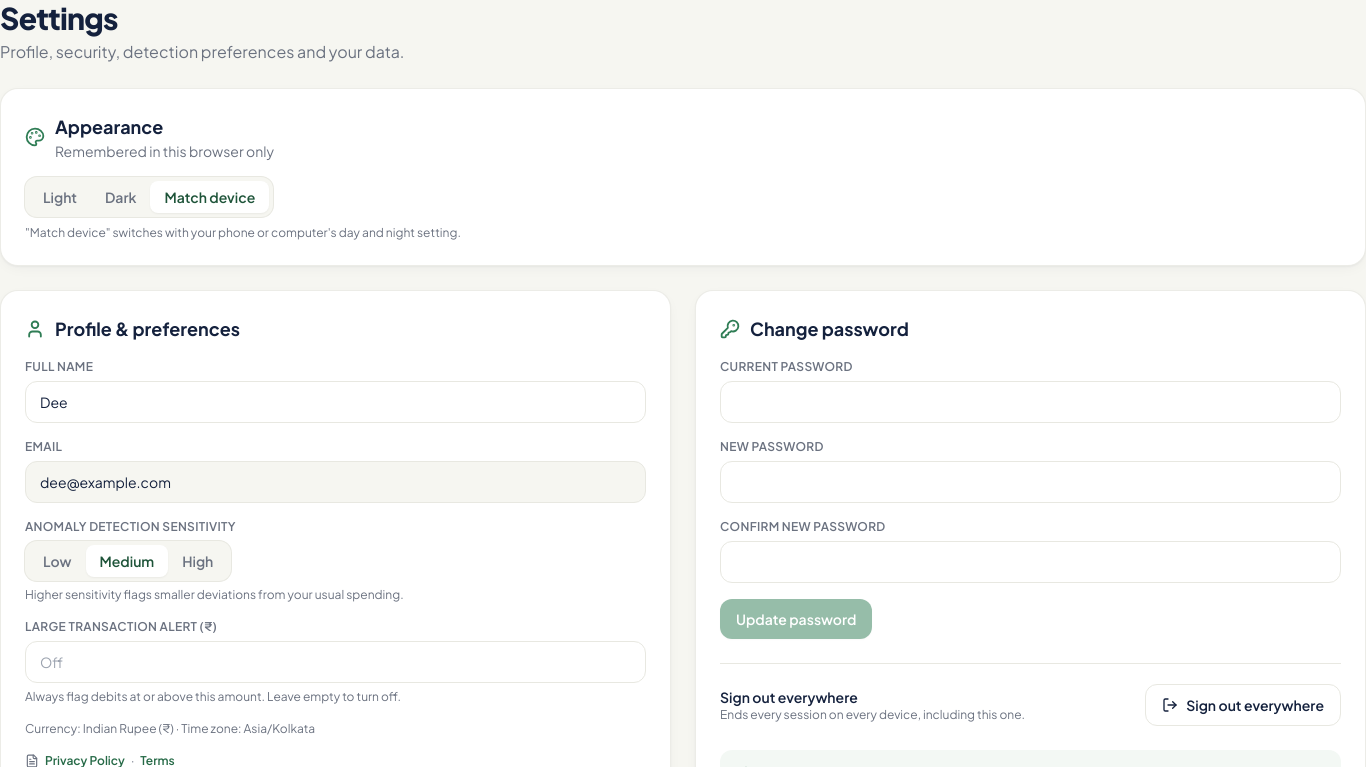
Test: Settings - appearance › switches to dark and remembers it
Click the tab "Dark": (121, 197) [91, 181, 150, 213]
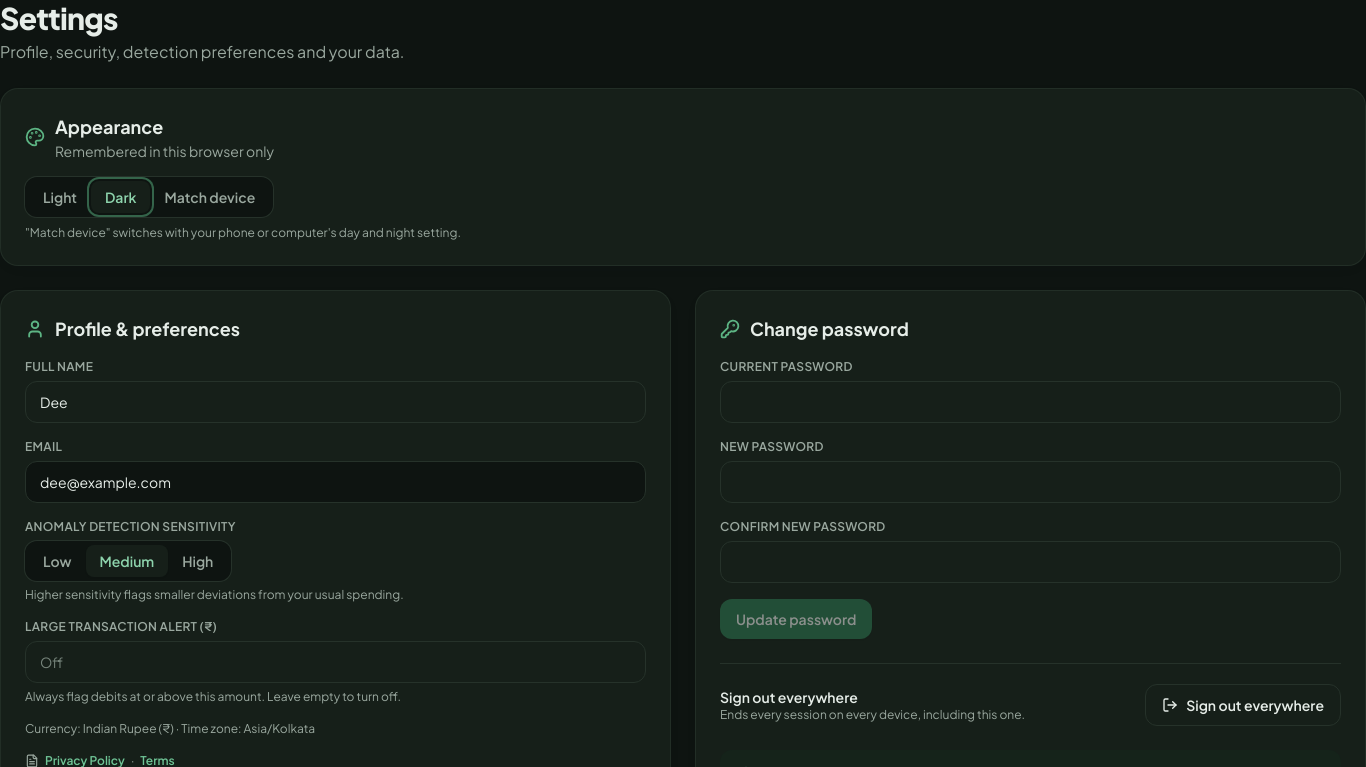
Check: the tab "Dark" is selected, box [91, 181, 150, 213]
